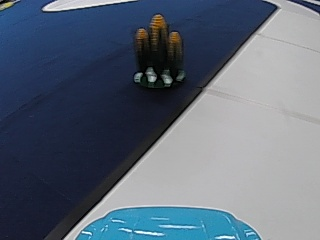corn: (131, 11, 184, 91)
